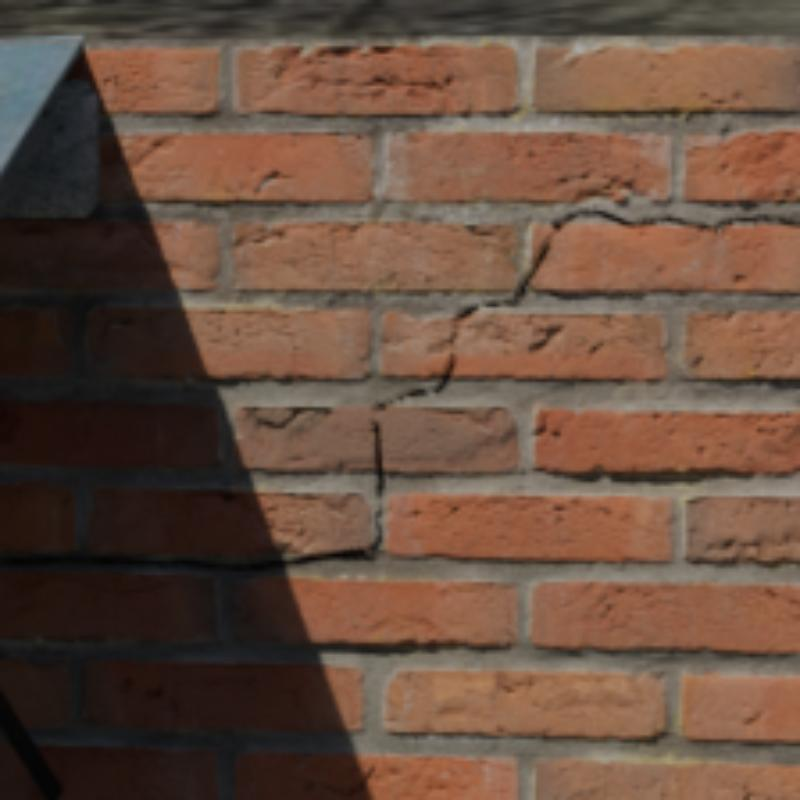pothole: (0, 400, 389, 568), (487, 239, 546, 304), (396, 354, 450, 396), (663, 214, 796, 229), (450, 305, 476, 339), (554, 211, 596, 229), (596, 211, 649, 225)
